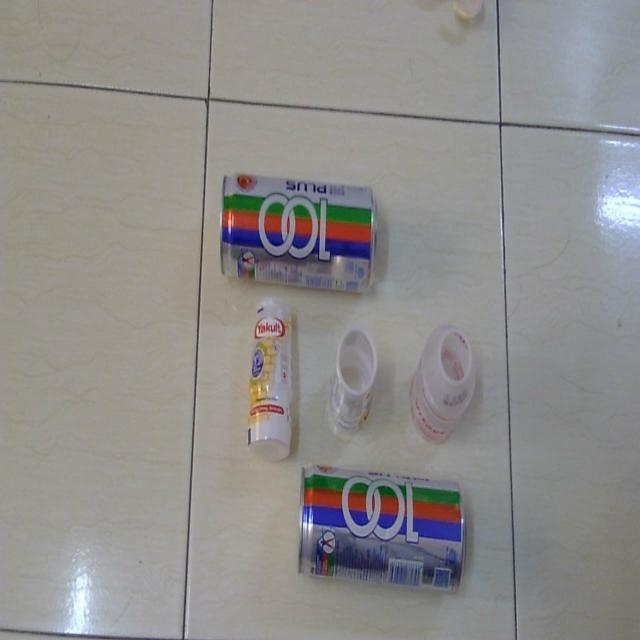metal_laydown_0rotation: (294, 454, 471, 606), (210, 165, 384, 294)
plastic_laydown_90rotation: (245, 293, 298, 459)
plastic_standrotation: (407, 314, 480, 448), (322, 323, 384, 436)
